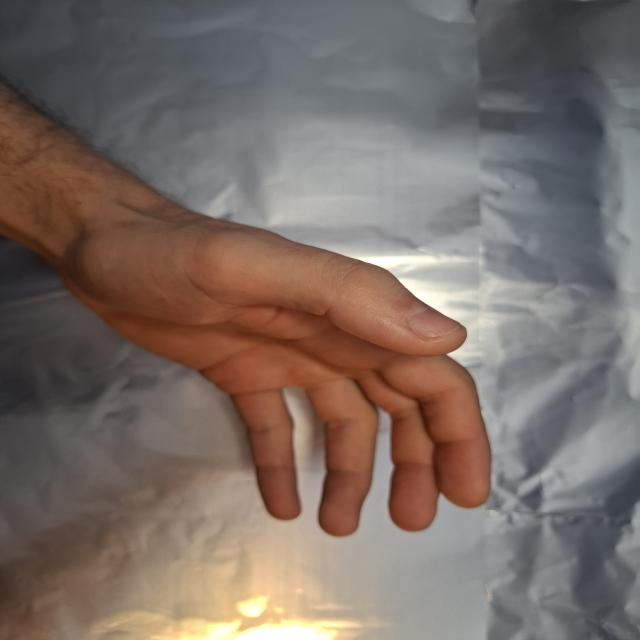glove_off: (52, 200, 494, 538)
